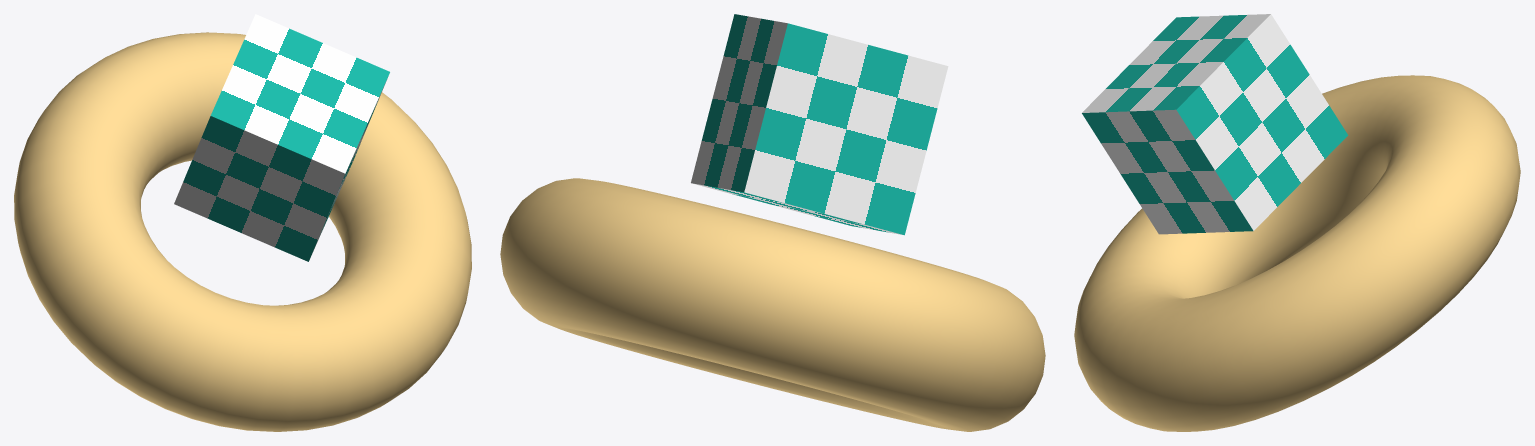
Rendered from ring.glb.
3 renders of one model, left to right at view 1: azimuth 30°, elevation 25°; view 2: azimuth 150°, elevation 25°; view 3: azimuth 270°, elevation 25°, orthographic. The views are drawn at different scales.
Parts seen in each view (by area): view 1: Ring, Box; view 2: Ring, Box; view 3: Ring, Box.
Part boxes in pixels (x1,y1,x2,y2): Ring: [14, 32, 471, 431]; Box: [174, 14, 389, 261]; Ring: [500, 178, 1045, 431]; Box: [691, 14, 948, 235]; Ring: [1074, 75, 1520, 431]; Box: [1082, 14, 1348, 234].
Bounding box in the file's own units: 0.96 × 0.8181 × 0.8662.
2 materials, 1 textured.
